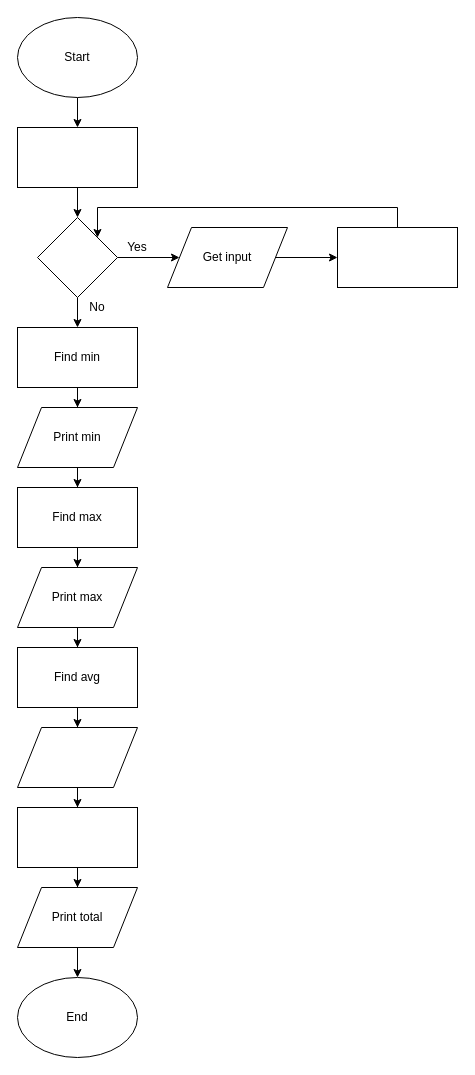
Image size: 475x1075. Some labels were removed from this diagram. The box of each missing label's shape, as (x1, y1, x2, y2) in pixels:
Add to list: (336, 226, 458, 288)
Find total: (16, 806, 138, 868)
Print avg: (16, 726, 138, 788)
Set variables and import stats: (16, 126, 138, 188)
While table is not full: (36, 216, 118, 298)
